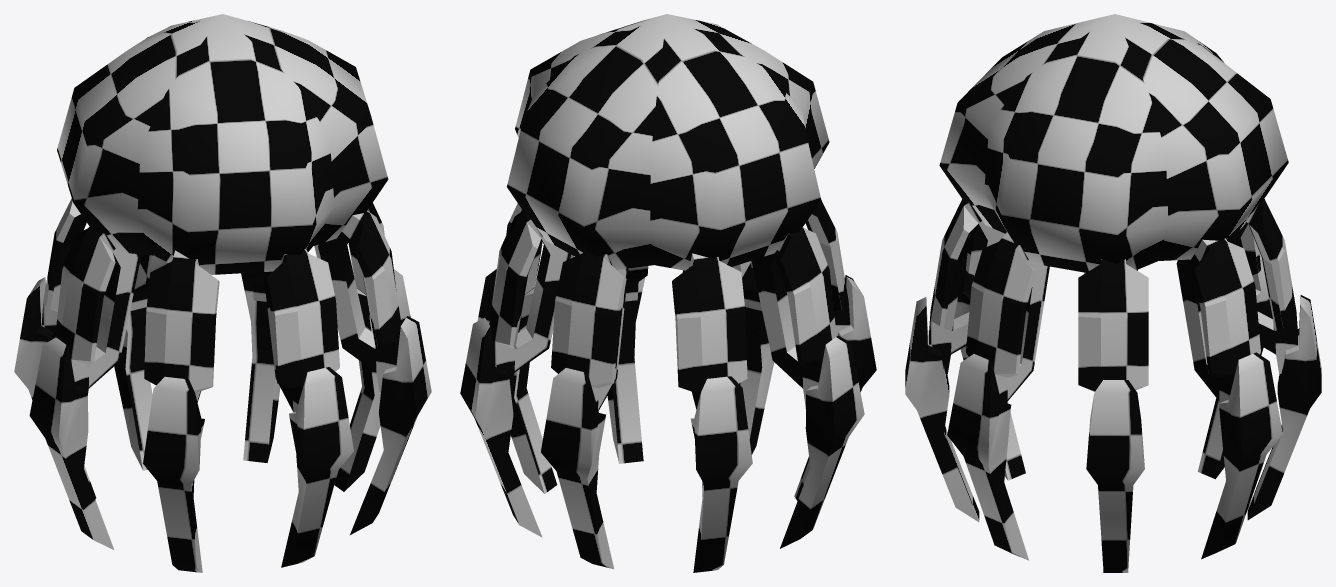
Rendered from stickybomb.obj.
3 renders of one model, left to right at view 1: azimuth 30°, elevation 25°; view 2: azimuth 150°, elevation 25°; view 3: azimuth 270°, elevation 25°, orthographic.
Visible parts, largest first — view 1: Mesh1; view 2: Mesh1; view 3: Mesh1.
Part boxes in pixels (x1,y1,x2,y2): Mesh1: (14,14,431,572); Mesh1: (460,14,876,572); Mesh1: (905,14,1321,572).
Bounding box in the file's own units: 99.04 × 132 × 99.04.
1 material, 1 textured.
